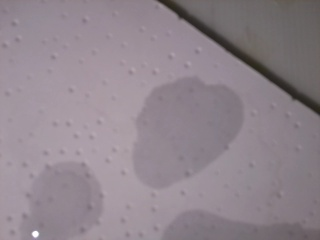Water_detected: (139, 87, 213, 176), (45, 175, 90, 224), (163, 207, 222, 240)
